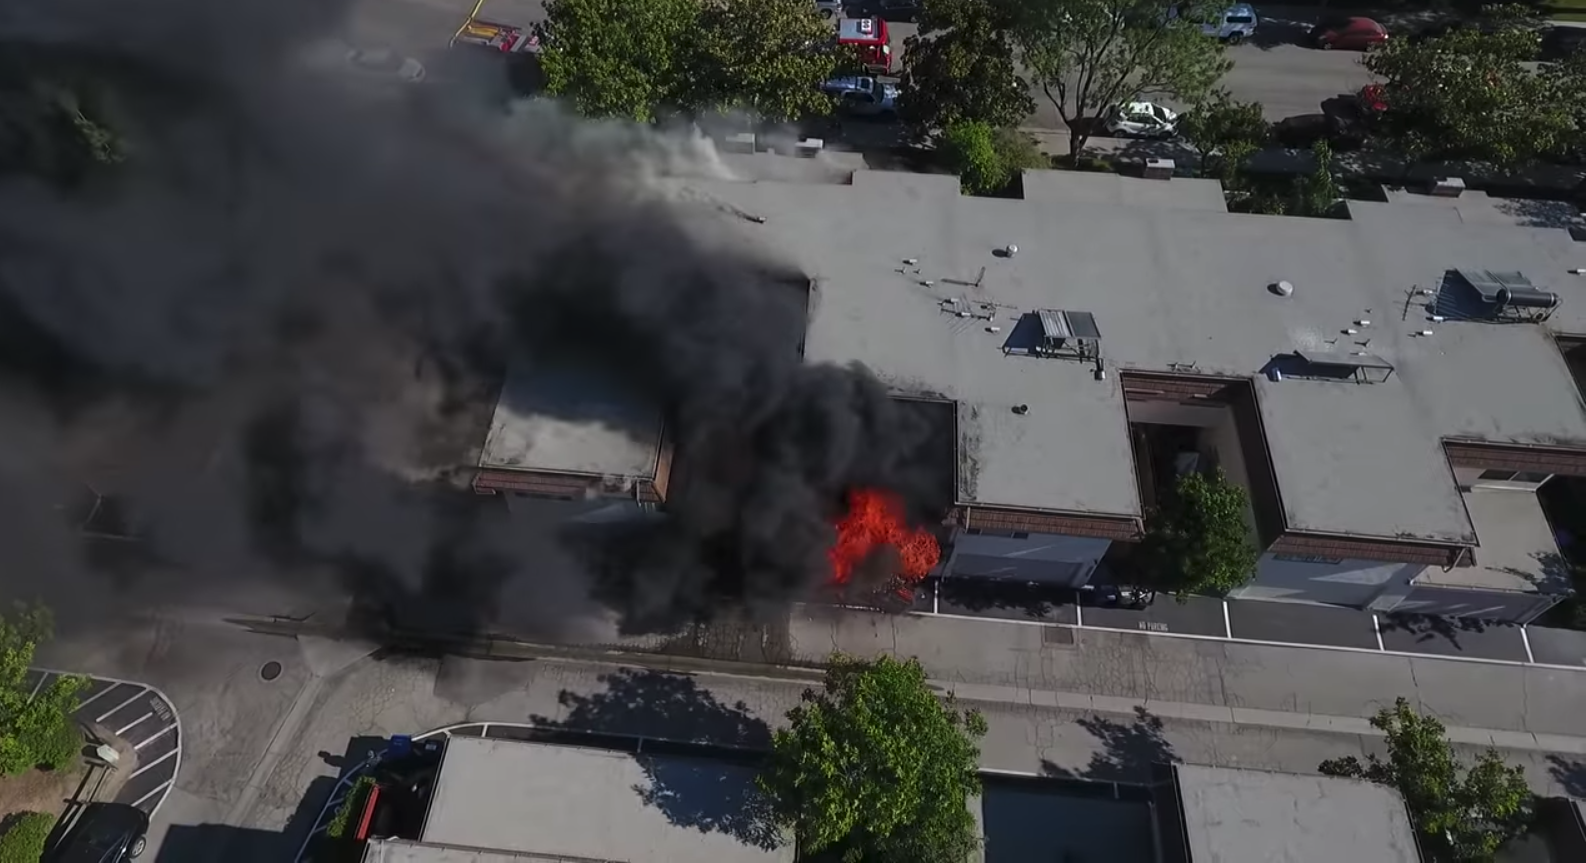fire: (812, 458, 941, 600)
